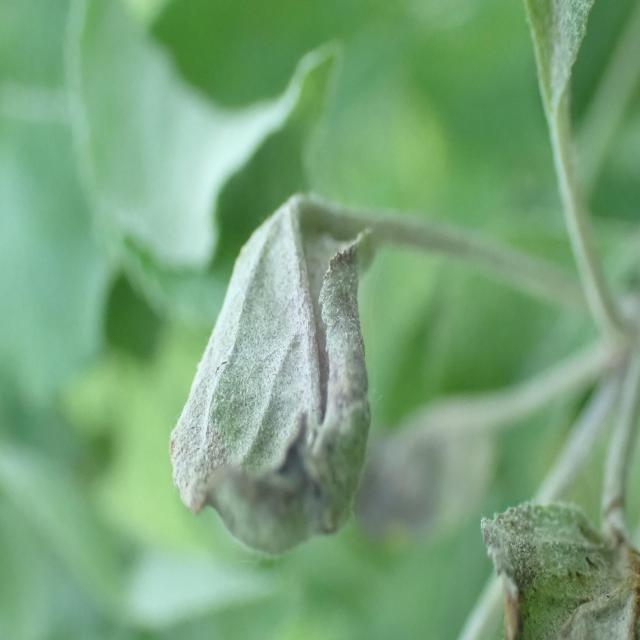Powdery_mildew: (142, 184, 389, 559), (478, 445, 640, 640), (513, 2, 597, 167)
